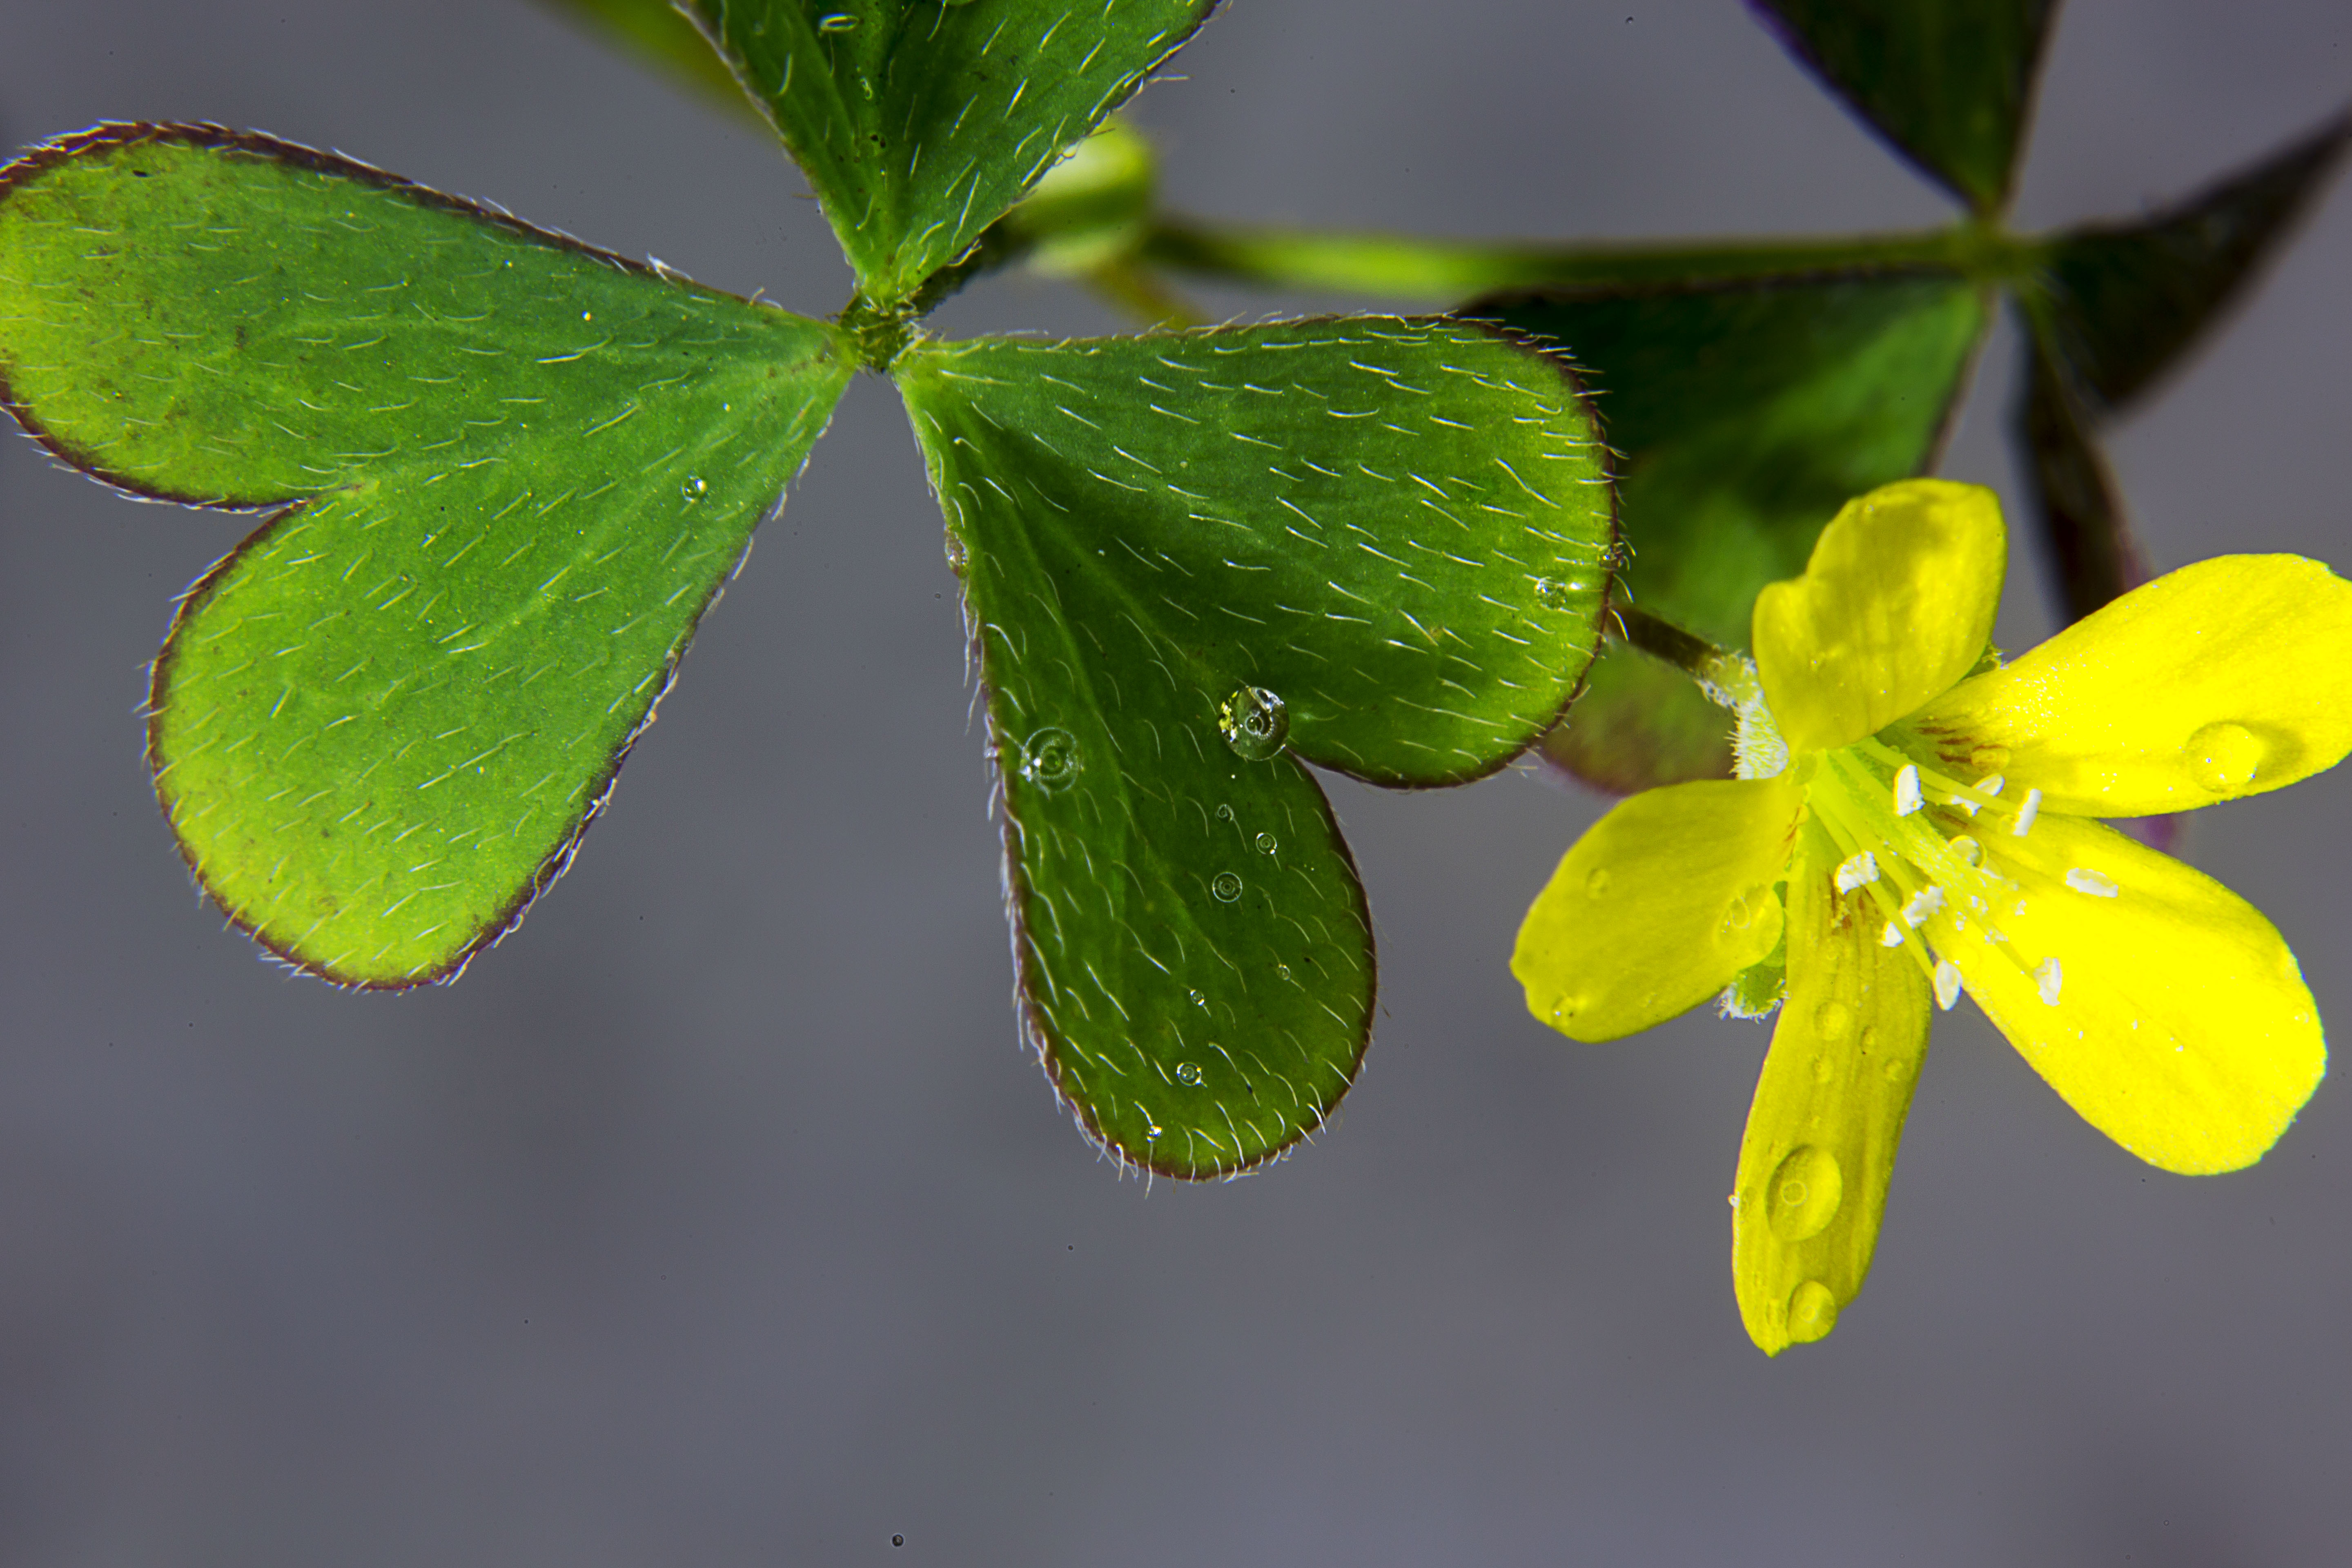oxalis: (135, 40, 1566, 1130)
